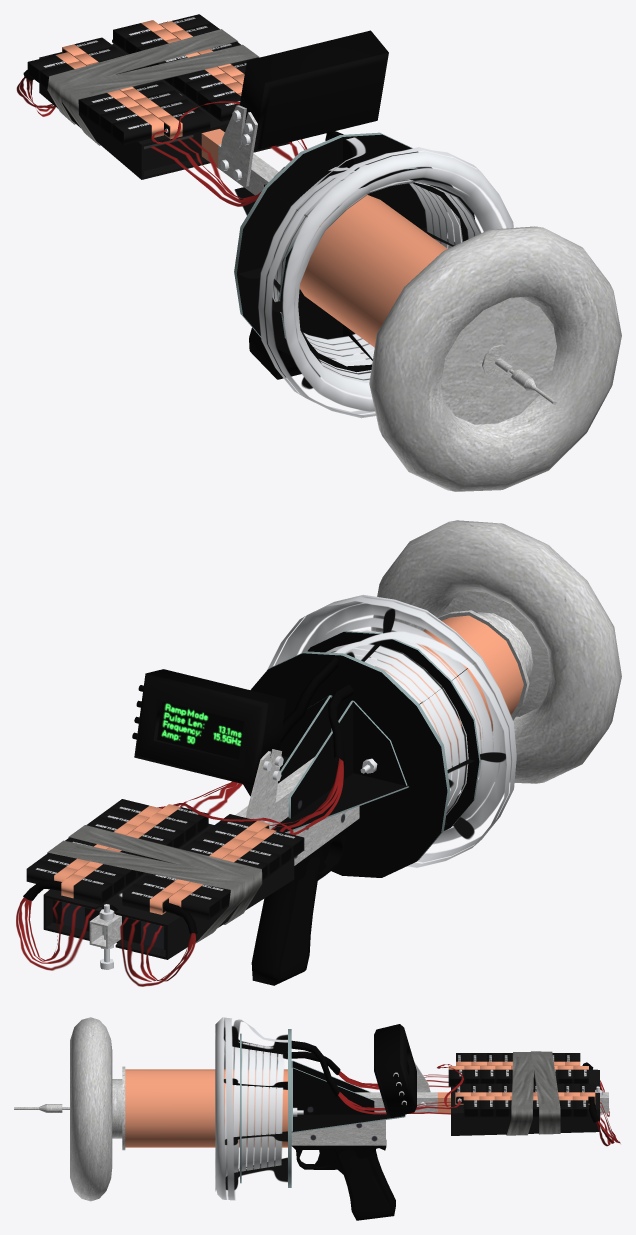
The model's file is tesla_coil_gun.glb.
3 renders of one model, top to bottom at view 1: azimuth 30°, elevation 25°; view 2: azimuth 150°, elevation 25°; view 3: azimuth 270°, elevation 25°, orthographic. The views are drawn at different scales.
Visible parts, largest first — view 1: Object_3; view 2: Object_3; view 3: Object_3.
Boxes of the visible parts, x1=… form: Object_3: x1=16, y1=14, x2=621, y2=491; Object_3: x1=16, y1=520, x2=621, y2=986; Object_3: x1=14, y1=1017, x2=620, y2=1220.
Size of the model in its own units: 29.66 by 33.84 by 97.24.
Materials: 1 (1 with a texture image).
